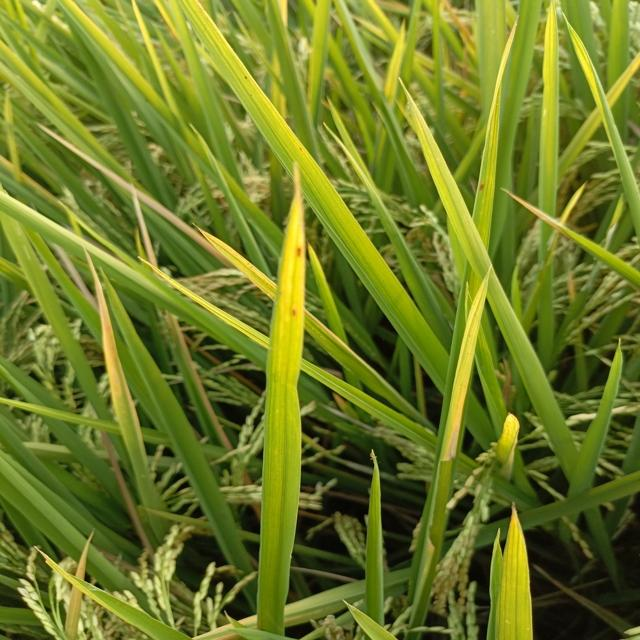Brown spot: (82, 248, 160, 445)
insects: (286, 303, 306, 325), (473, 179, 492, 196), (292, 241, 306, 263)
